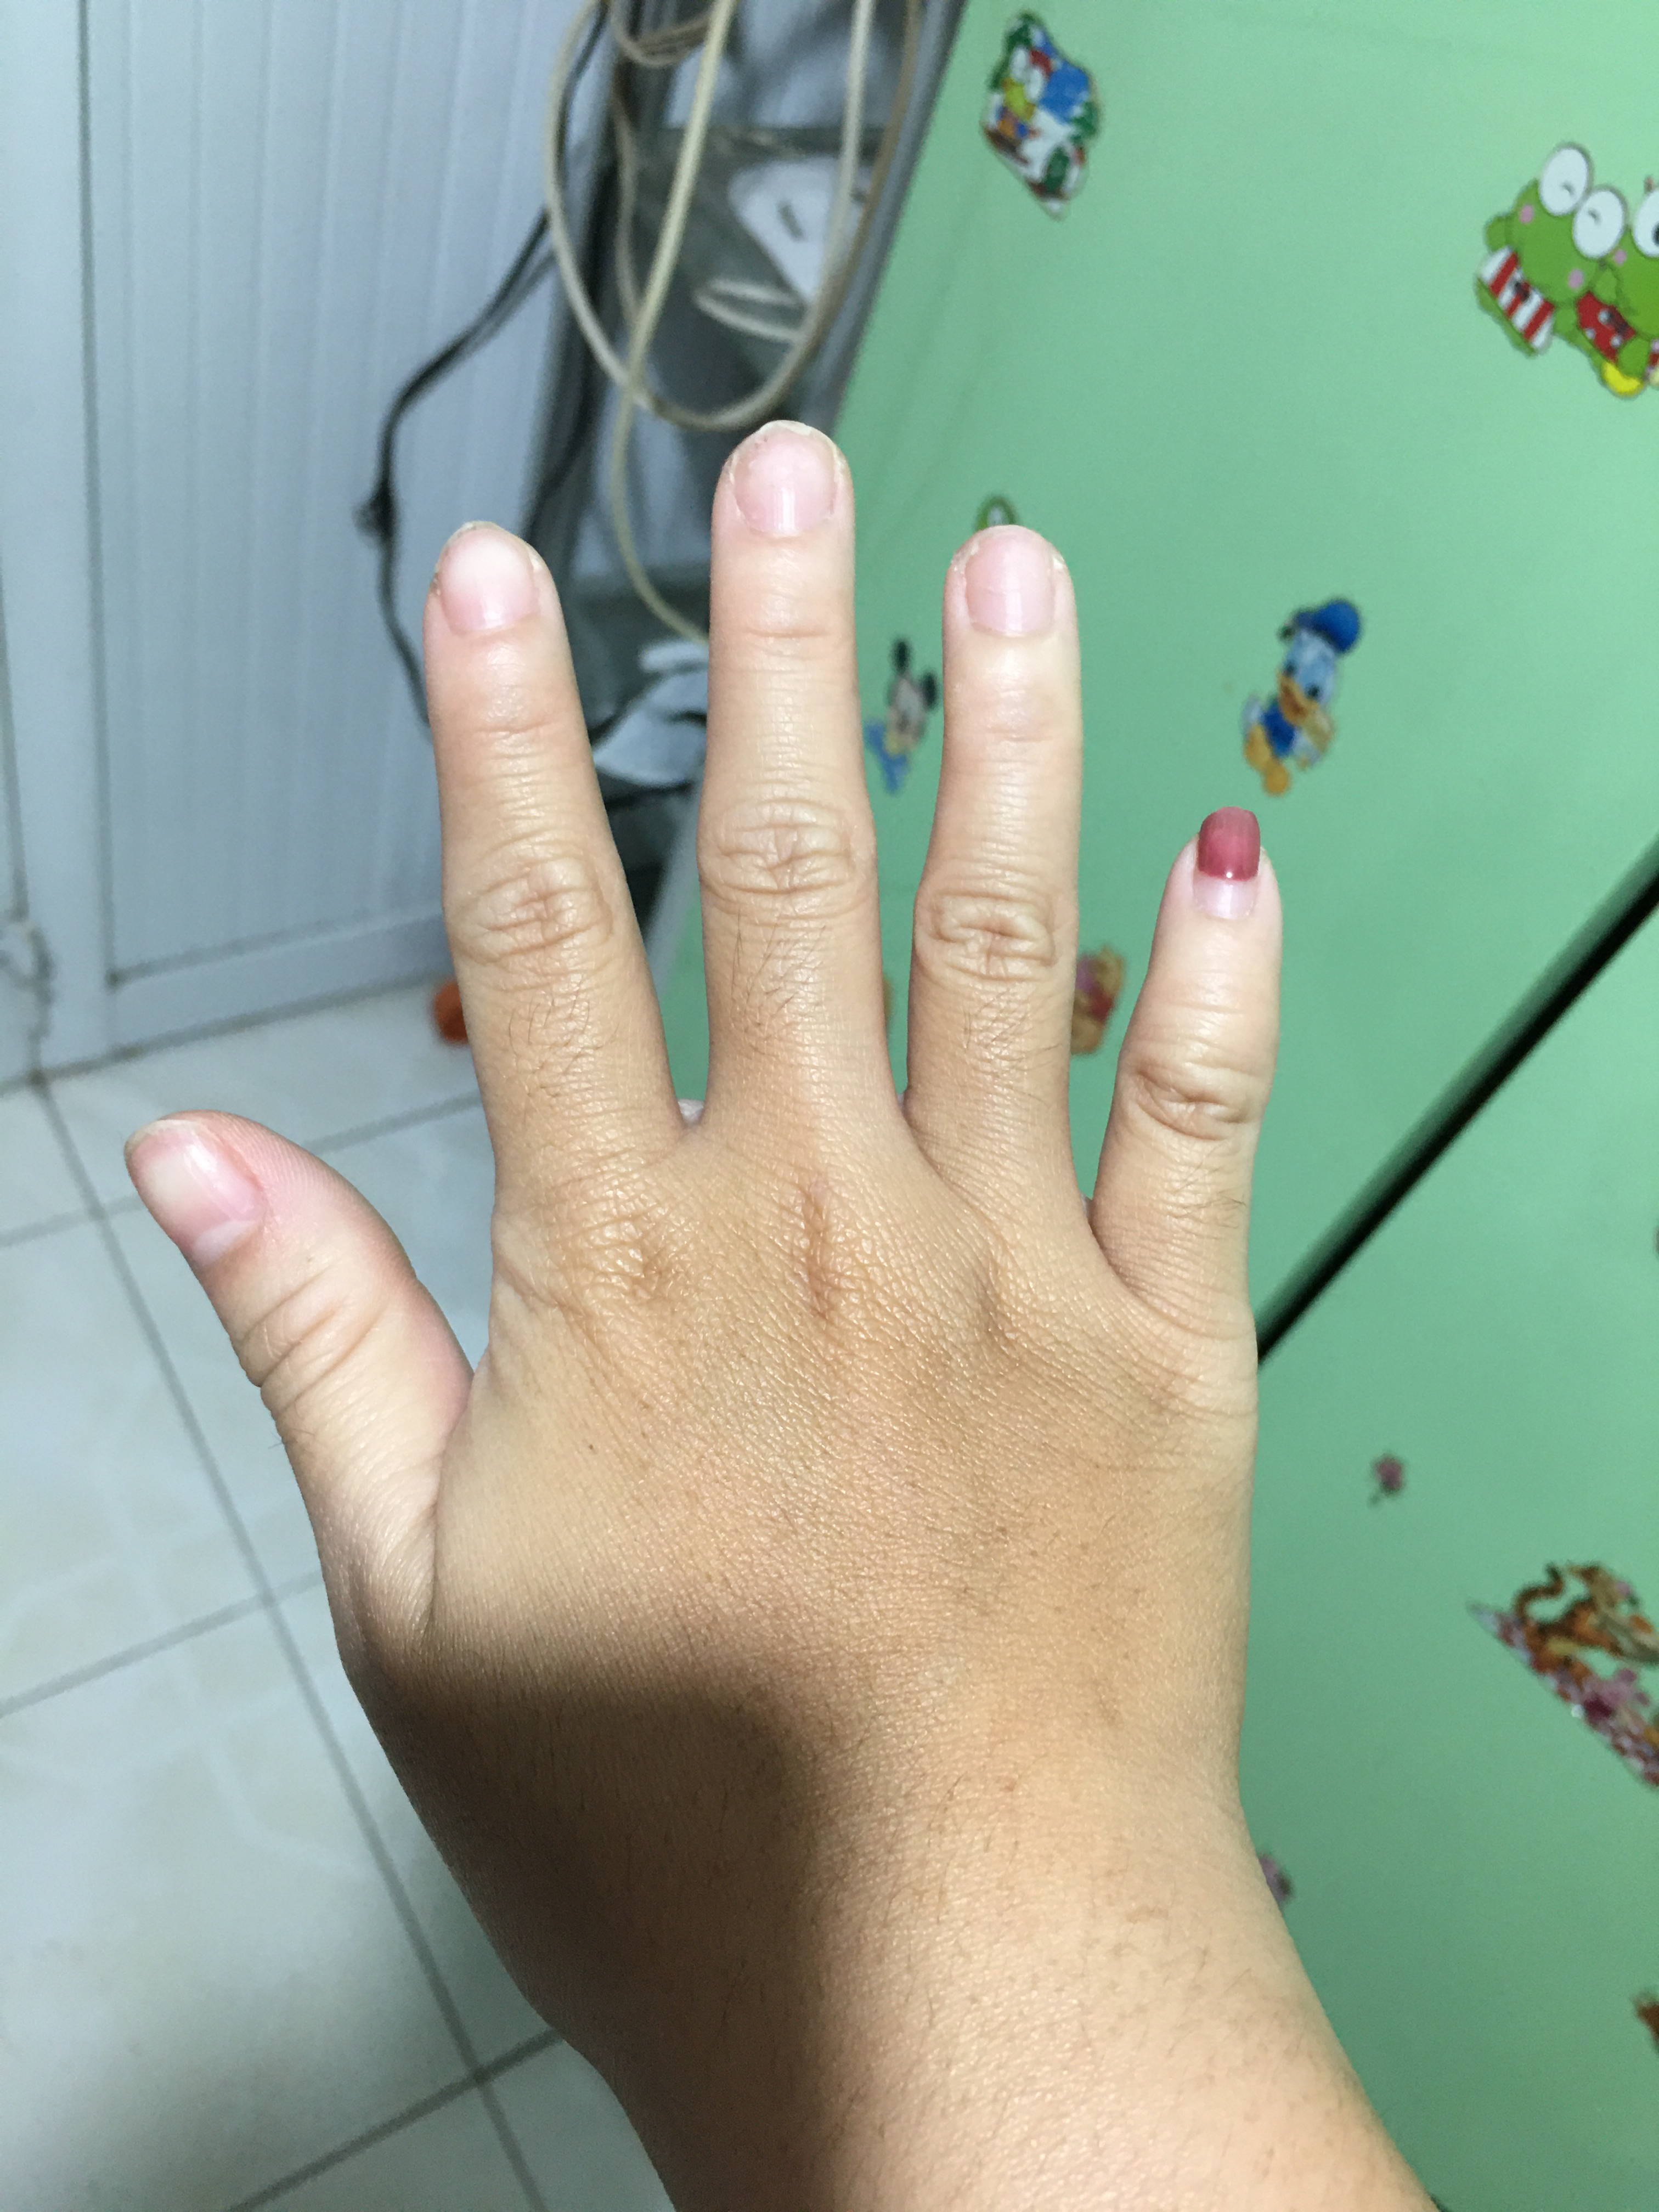nails: (112, 1103, 282, 1270), (416, 498, 547, 650), (727, 411, 843, 552), (958, 517, 1072, 662), (1187, 792, 1269, 941)
